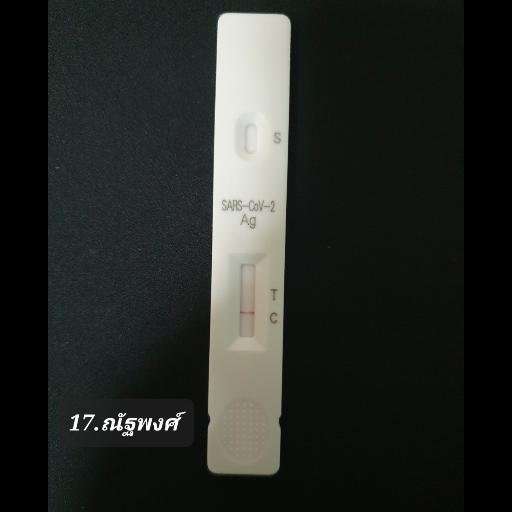Neg: (212, 18, 288, 472)
